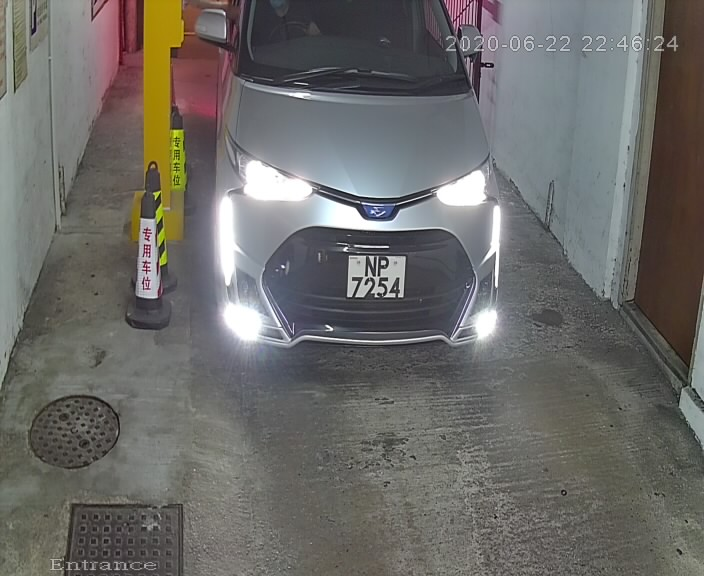privatecar: (188, 1, 518, 368)
